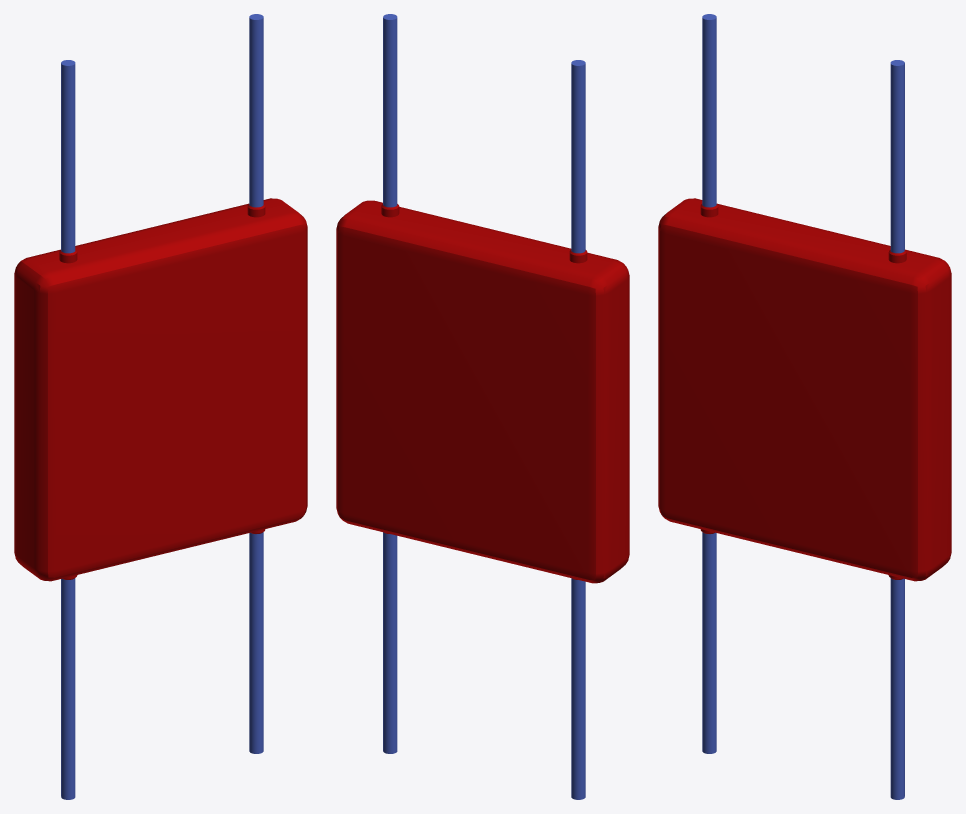
Rendered from Obstacle_Wall.fbx.
The picture shows the model from 3 angles, left to right: view 1: azimuth 30°, elevation 25°; view 2: azimuth 150°, elevation 25°; view 3: azimuth 330°, elevation 25°; orthographic projection.
Visible parts, largest first — view 1: Wall_A, Obstacle_Wall; view 2: Wall_A, Obstacle_Wall; view 3: Wall_A, Obstacle_Wall.
Boxes of the visible parts, x1=… form: Wall_A: x1=14, y1=198, x2=307, y2=581; Obstacle_Wall: x1=61, y1=14, x2=263, y2=799; Wall_A: x1=336, y1=200, x2=629, y2=583; Obstacle_Wall: x1=383, y1=14, x2=585, y2=799; Wall_A: x1=658, y1=198, x2=951, y2=581; Obstacle_Wall: x1=702, y1=14, x2=904, y2=799.
Size of the model in its own units: 91.36 by 236 by 19.93.
